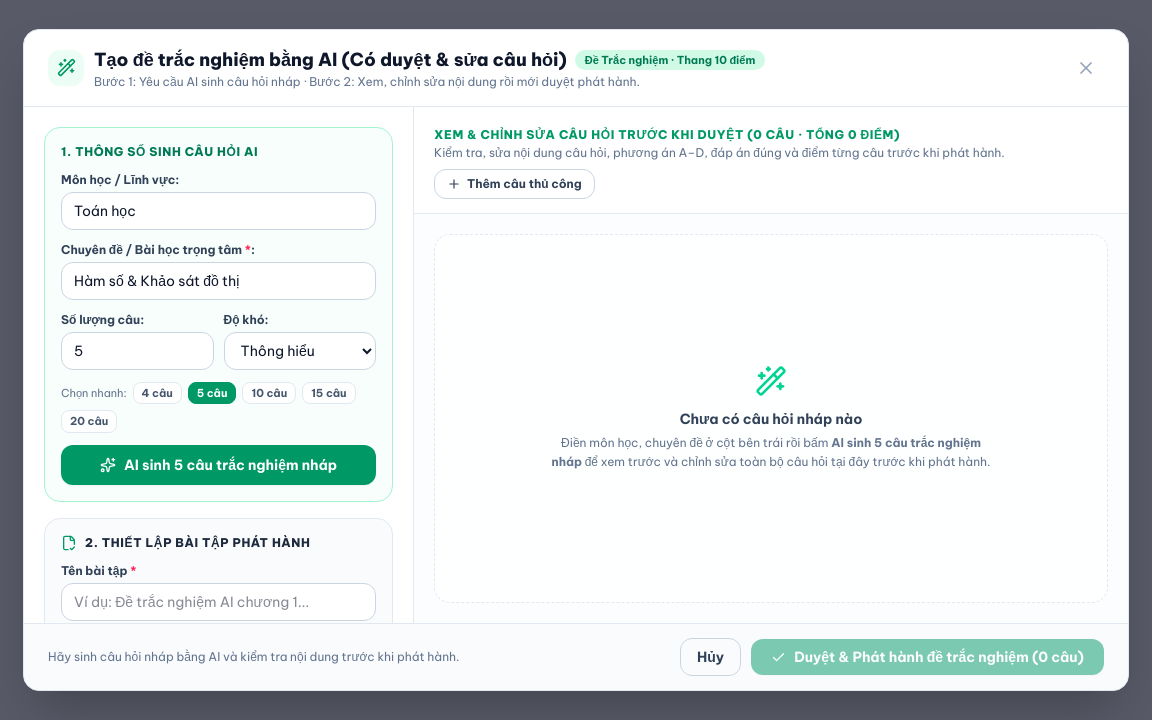
Test: AiExamBuilderModal › sinh bản nháp câu hỏi trắc nghiệm bằng AI, chia đều 10 điểm và cho phép sửa nội dung trước khi duyệt phát hành
Later steps or results of the test are not shown.
Click the button "4 câu" at (157, 393), box x1=133 y1=382 x2=182 y2=404
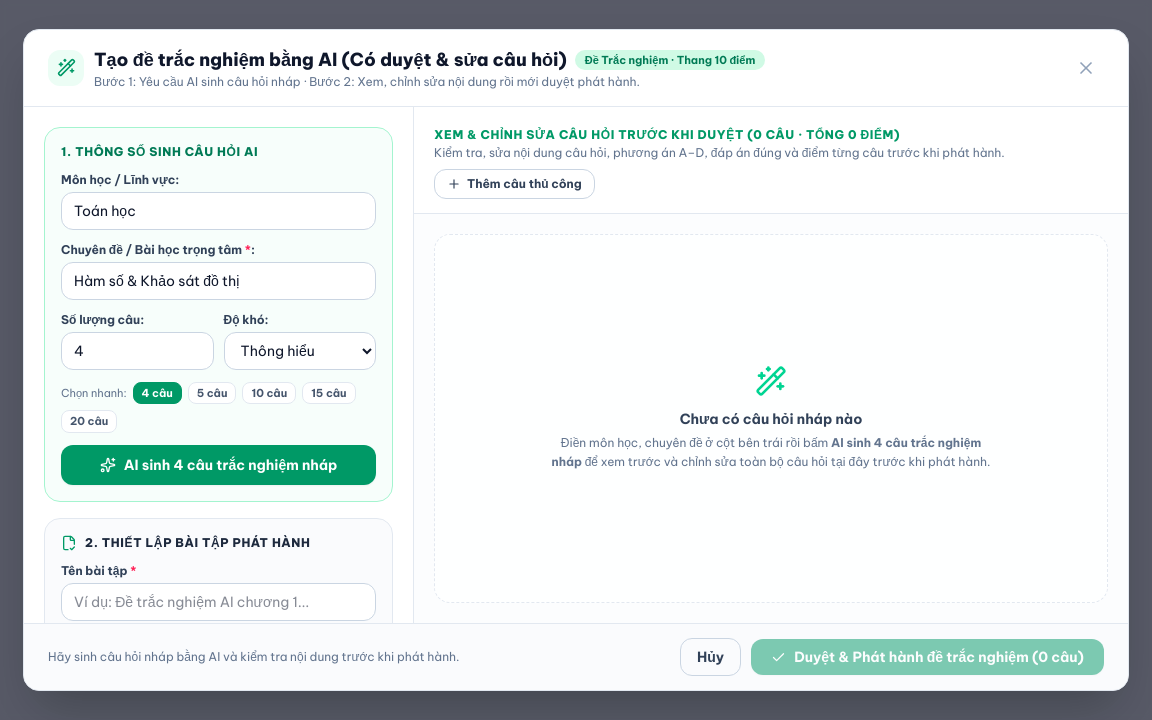
Click the button "AI sinh 4 câu trắc nghiệm nháp" at (218, 465), box x1=61 y1=445 x2=376 y2=485
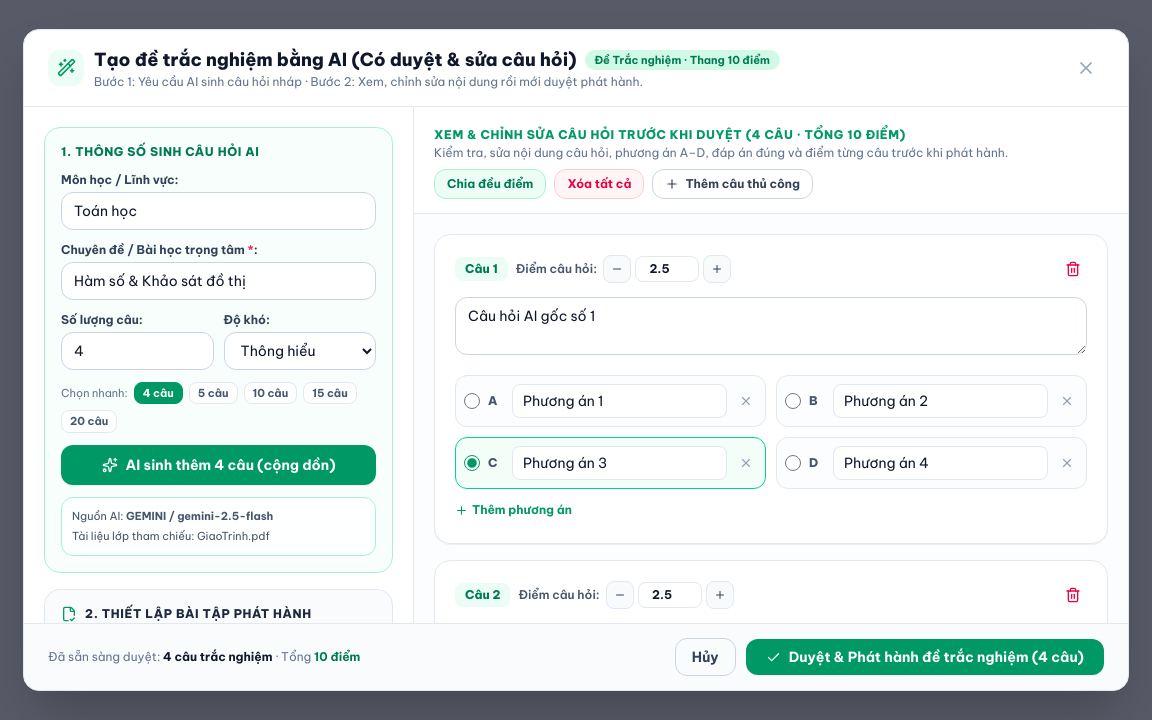
Now the text box showing "Câu hỏi AI gốc số 1" is shown, box x1=455 y1=297 x2=1087 y2=355
Now the text "4 câu · Tổng 10 điểm" is shown, box x1=434 y1=127 x2=906 y2=142
Now the number field named "Điểm câu 1" holds "2.5", box x1=635 y1=256 x2=699 y2=282
